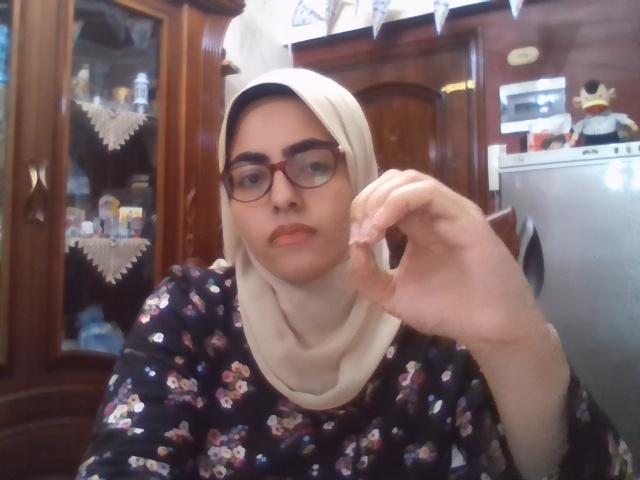O: (348, 167, 528, 344)
